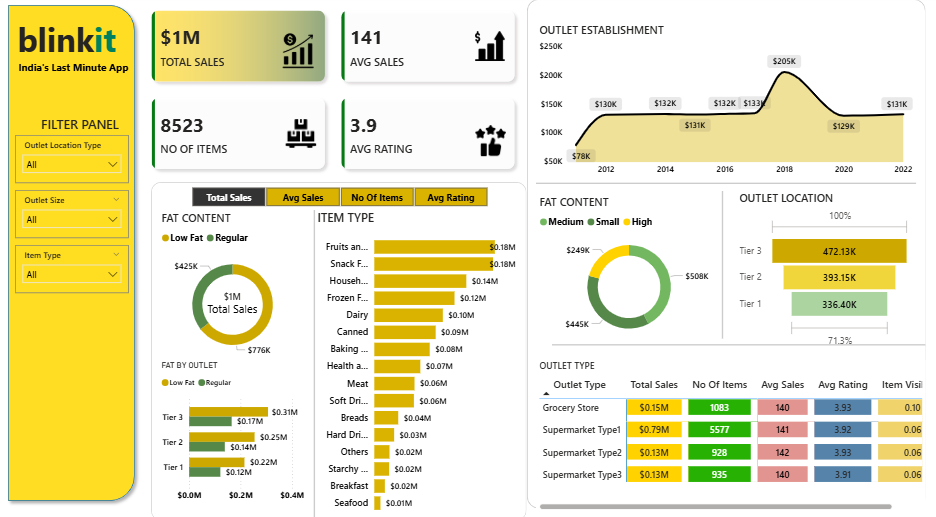

The dashboard page shown, as its layout file describes it:
{"tool":"powerbi","page":{"name":"Page 1","canvas":[1400,800],"ordinal":0},"visuals":[{"type":"shape","box":[10,0,205,750],"z":0},{"type":"textbox","box":[28.5,21,168.1,78],"z":1000},{"type":"textbox","box":[29.3,86.2,185.4,45.5],"z":2000},{"type":"cardVisual","fields":{"Data":["BlinkIT Grocery Data.Total Sales","BlinkIT Grocery Data.Avg Sales","BlinkIT Grocery Data.No Of Items","BlinkIT Grocery Data.Avg Rating"]},"box":[214.6,0,570.7,269.9],"z":3000},{"type":"shape","box":[231,270.4,554.4,500],"z":4000},{"type":"donutChart","title":"FAT CONTENT","fields":{"Y":["BlinkIT Grocery Data.Total Sales"],"Category":["BlinkIT Grocery Data.Item Fat Content"]},"box":[240.5,311.1,220.1,229.6],"z":5000},{"type":"slicer","fields":{"Values":["Metrics.Metrics"]},"box":[266.3,271.7,485.1,39.4],"z":6000},{"type":"cardVisual","fields":{"Data":["BlinkIT Grocery Data.Total Sales"]},"box":[292.1,411.7,116.8,74.7],"z":7000},{"type":"clusteredBarChart","title":"FAT  BY OUTLET","fields":{"Y":["BlinkIT Grocery Data.Total Sales"],"Category":["BlinkIT Grocery Data.Outlet Location Type"],"Series":["BlinkIT Grocery Data.Item Fat Content"]},"box":[240.5,534,229.6,216],"z":8000},{"type":"shape","box":[383.2,311.1,175.3,459.2],"z":9000},{"type":"barChart","title":"ITEM TYPE","fields":{"Y":["BlinkIT Grocery Data.Total Sales"],"Category":["BlinkIT Grocery Data.Item Type"]},"box":[471,310.1,302.9,459.4],"z":10000},{"type":"shape","box":[785.5,0,588.4,752.2],"z":11000},{"type":"lineChart","title":"OUTLET ESTABLISHMENT ","fields":{"Category":["BlinkIT Grocery Data.Outlet Establishment Year"],"Y":["BlinkIT Grocery Data.Total Sales"]},"box":[798.4,34.1,561,235.8],"z":12000},{"type":"shape","box":[798.4,42.3,561,458.5],"z":13000},{"type":"donutChart","title":"FAT CONTENT","fields":{"Y":["BlinkIT Grocery Data.Total Sales"],"Category":["BlinkIT Grocery Data.Outlet Size"]},"box":[798.4,287.8,274.8,224.4],"z":14000},{"type":"shape","box":[985.4,282.9,175.6,217.9],"z":15000},{"type":"funnel","title":"OUTLET LOCATION","fields":{"Y":["Sum(BlinkIT Grocery Data.Sales)"],"Category":["BlinkIT Grocery Data.Outlet Location Type"]},"box":[1094.3,281.3,261.8,237],"z":16000},{"type":"shape","box":[822.8,401.6,551.2,217.9],"z":17000},{"type":"pivotTable","title":"OUTLET TYPE","fields":{"Rows":["BlinkIT Grocery Data.Outlet Type"],"Values":["BlinkIT Grocery Data.Total Sales","BlinkIT Grocery Data.No Of Items","BlinkIT Grocery Data.Avg Sales","BlinkIT Grocery Data.Avg Rating","Avg(BlinkIT Grocery Data.Item Visibility)"]},"box":[798.6,533.3,575.4,226.1],"z":18000},{"type":"slicer","fields":{"Values":["BlinkIT Grocery Data.Outlet Location Type"]},"box":[29,201.4,168.1,71],"z":19000},{"type":"slicer","fields":{"Values":["BlinkIT Grocery Data.Outlet Size"]},"box":[29,282.6,168.1,71],"z":20000},{"type":"slicer","fields":{"Values":["BlinkIT Grocery Data.Item Type"]},"box":[29,363.8,168.1,71],"z":21000},{"type":"textbox","box":[0,166.7,250.7,34.8],"z":22000}]}

Visuals, with their boxes on the page's 1400x800 design canvas (x1, y1, x2, y2). These are canvas units, not pixel positions in the 936x517 screenshot, which may show the page scaled, cropped or inside an application window:
shape: locate(10, 0, 215, 750)
textbox: locate(28, 21, 197, 99)
textbox: locate(29, 86, 215, 132)
cardVisual - BlinkIT Grocery Data.Total Sales x BlinkIT Grocery Data.Avg Sales: locate(215, 0, 785, 270)
shape: locate(231, 270, 785, 770)
"FAT CONTENT" donutChart: locate(240, 311, 461, 541)
slicer - Metrics.Metrics: locate(266, 272, 751, 311)
cardVisual - BlinkIT Grocery Data.Total Sales: locate(292, 412, 409, 486)
"FAT  BY OUTLET" clusteredBarChart: locate(240, 534, 470, 750)
shape: locate(383, 311, 558, 770)
"ITEM TYPE" barChart: locate(471, 310, 774, 770)
shape: locate(786, 0, 1374, 752)
"OUTLET ESTABLISHMENT " lineChart: locate(798, 34, 1359, 270)
shape: locate(798, 42, 1359, 501)
"FAT CONTENT" donutChart: locate(798, 288, 1073, 512)
shape: locate(985, 283, 1161, 501)
"OUTLET LOCATION" funnel: locate(1094, 281, 1356, 518)
shape: locate(823, 402, 1374, 620)
"OUTLET TYPE" pivotTable: locate(799, 533, 1374, 759)
slicer - BlinkIT Grocery Data.Outlet Location Type: locate(29, 201, 197, 272)
slicer - BlinkIT Grocery Data.Outlet Size: locate(29, 283, 197, 354)
slicer - BlinkIT Grocery Data.Item Type: locate(29, 364, 197, 435)
textbox: locate(0, 167, 251, 202)
